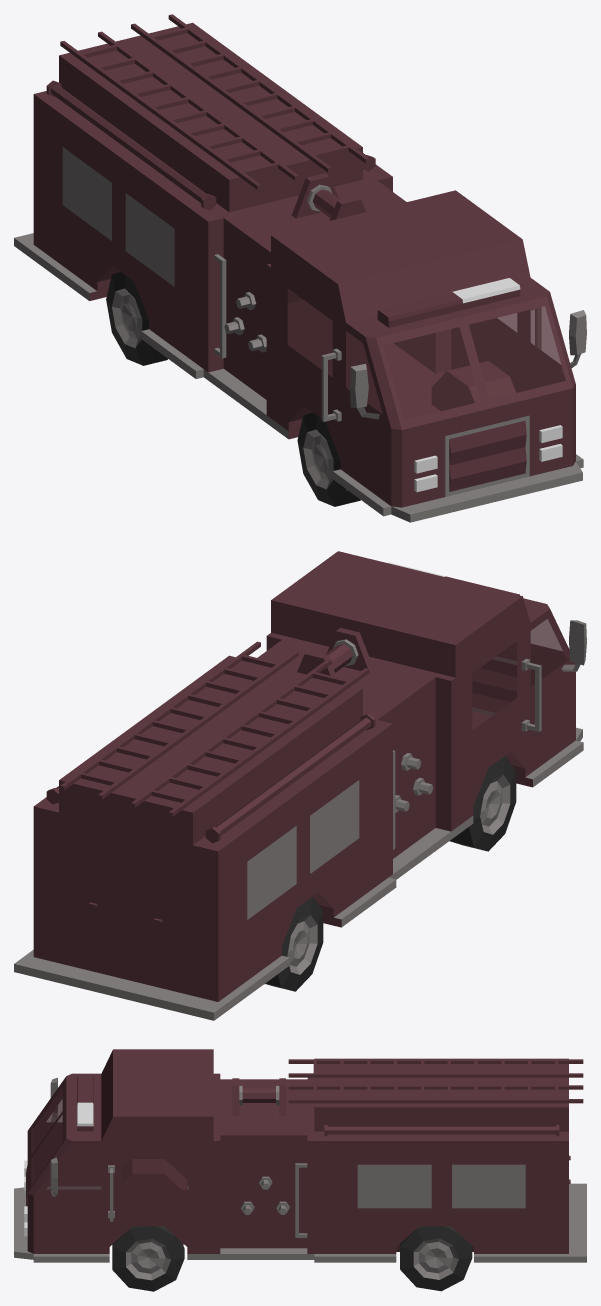
Rendered from firetruck.fbx.
3 renders of one model, top to bottom at view 1: azimuth 30°, elevation 25°; view 2: azimuth 150°, elevation 25°; view 3: azimuth 270°, elevation 25°, orthographic. The views are drawn at different scales.
Visible parts, largest first — view 1: firetruck-base, firetruckwheel_FR, firetruck-wheel_BR; view 2: firetruck-base, firetruckwheel_FR, firetruck-wheel_BR; view 3: firetruck-base, firetruck-wheel_FL, firetruck-wheel_BL.
Boxes of the visible parts, bbox=[...] form: firetruck-base: bbox=[14, 14, 586, 522]; firetruckwheel_FR: bbox=[297, 412, 360, 506]; firetruck-wheel_BR: bbox=[106, 272, 167, 365]; firetruck-base: bbox=[14, 551, 586, 1020]; firetruckwheel_FR: bbox=[449, 756, 516, 851]; firetruck-wheel_BR: bbox=[264, 896, 323, 991]; firetruck-base: bbox=[14, 1049, 586, 1262]; firetruck-wheel_FL: bbox=[112, 1226, 184, 1291]; firetruck-wheel_BL: bbox=[400, 1226, 472, 1291].
Size of the model in its own units: 3.02 by 2.97 by 8.54.
